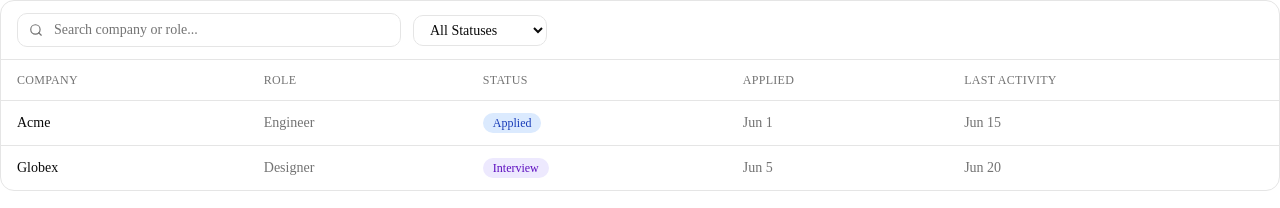
filters rows by status
The width and height of the screenshot is (1280, 208).
Select "Interview" in the dropdown at (480, 30), box top-left (413, 14), bottom-right (547, 46)
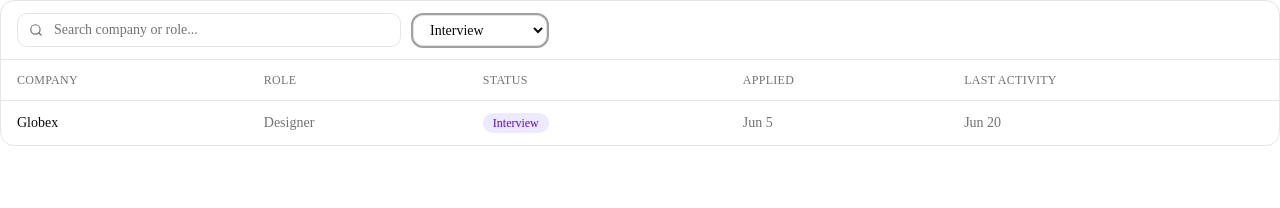
Expected: the text "Globex" is shown, top-left (1, 100), bottom-right (248, 145)
Now the text "Acme" is gone
